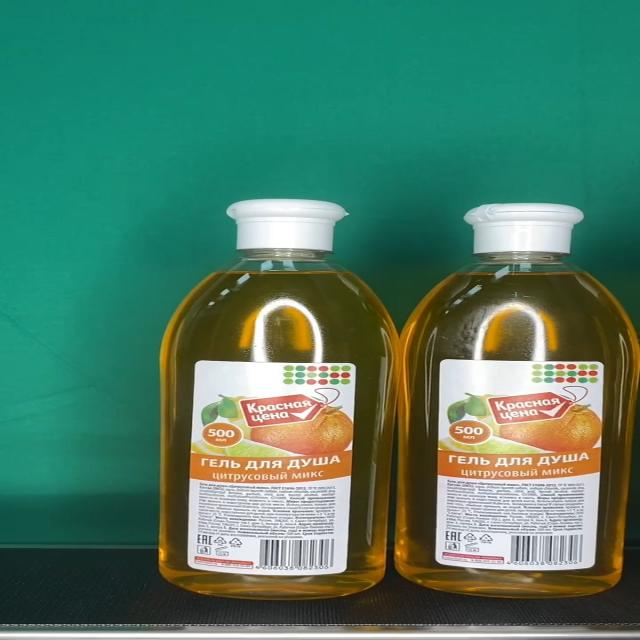Bottle: (159, 198, 402, 600), (395, 203, 640, 599)
Cap: (463, 203, 583, 254), (227, 198, 347, 248)
